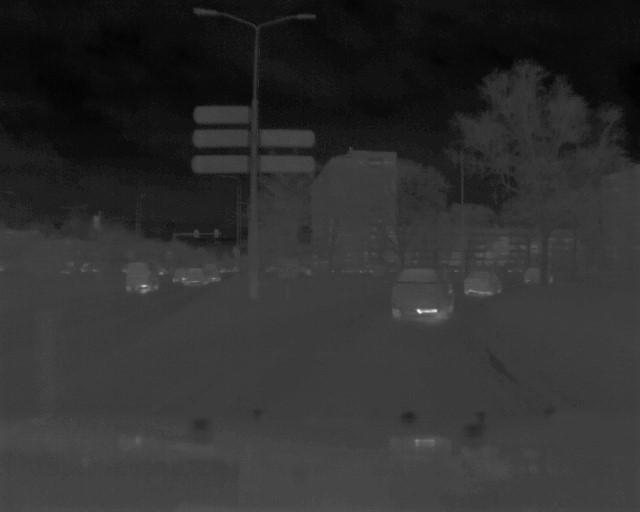car: (382, 260, 460, 332), (121, 259, 162, 298), (464, 269, 504, 301), (182, 266, 208, 291)
